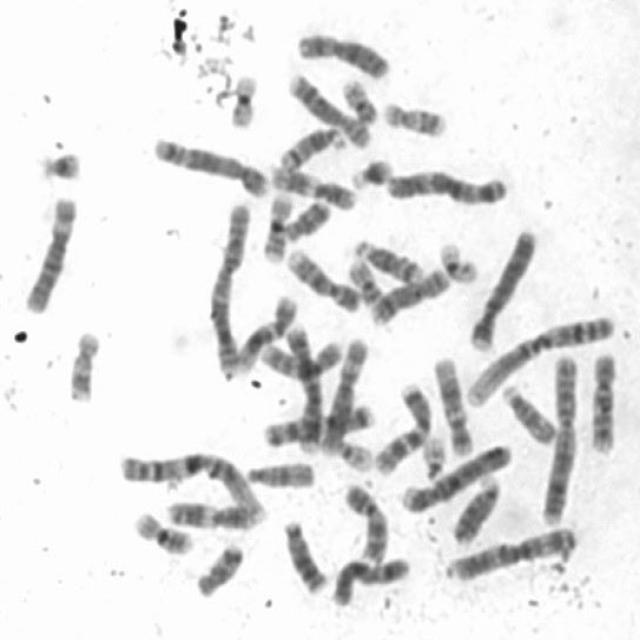A1: (460, 308, 620, 409), (115, 446, 268, 517)
A2: (204, 198, 253, 381), (536, 349, 581, 528)
A3: (443, 520, 580, 585), (381, 163, 510, 208)
B4: (464, 223, 540, 354), (396, 437, 514, 515)
B5: (147, 129, 271, 199), (282, 319, 324, 456)
C10: (255, 334, 344, 382), (585, 346, 620, 456)
C11: (265, 159, 358, 212), (160, 495, 265, 532)
C12: (230, 289, 299, 374), (430, 350, 476, 458)
C6: (19, 190, 78, 316), (317, 330, 371, 455)
C7: (368, 377, 435, 477), (260, 398, 378, 450)
C8: (282, 66, 374, 150), (367, 262, 452, 326)
C9: (283, 243, 365, 314), (340, 477, 390, 567)
D13: (447, 470, 503, 548), (277, 512, 329, 596)
D14: (274, 120, 346, 172), (349, 235, 424, 284)
D15: (498, 378, 558, 447), (240, 454, 318, 490)
E16: (128, 506, 195, 556), (258, 188, 295, 264)
E17: (377, 94, 450, 139), (64, 326, 101, 404)
E18: (191, 536, 247, 601), (280, 195, 334, 242)
F19: (434, 234, 482, 286), (224, 68, 260, 130)
F20: (338, 73, 380, 128), (344, 255, 384, 308)
G21: (347, 150, 396, 192), (33, 144, 84, 182)
G22: (328, 433, 374, 473), (417, 428, 449, 482)
X: (292, 27, 394, 81), (325, 550, 414, 610)
